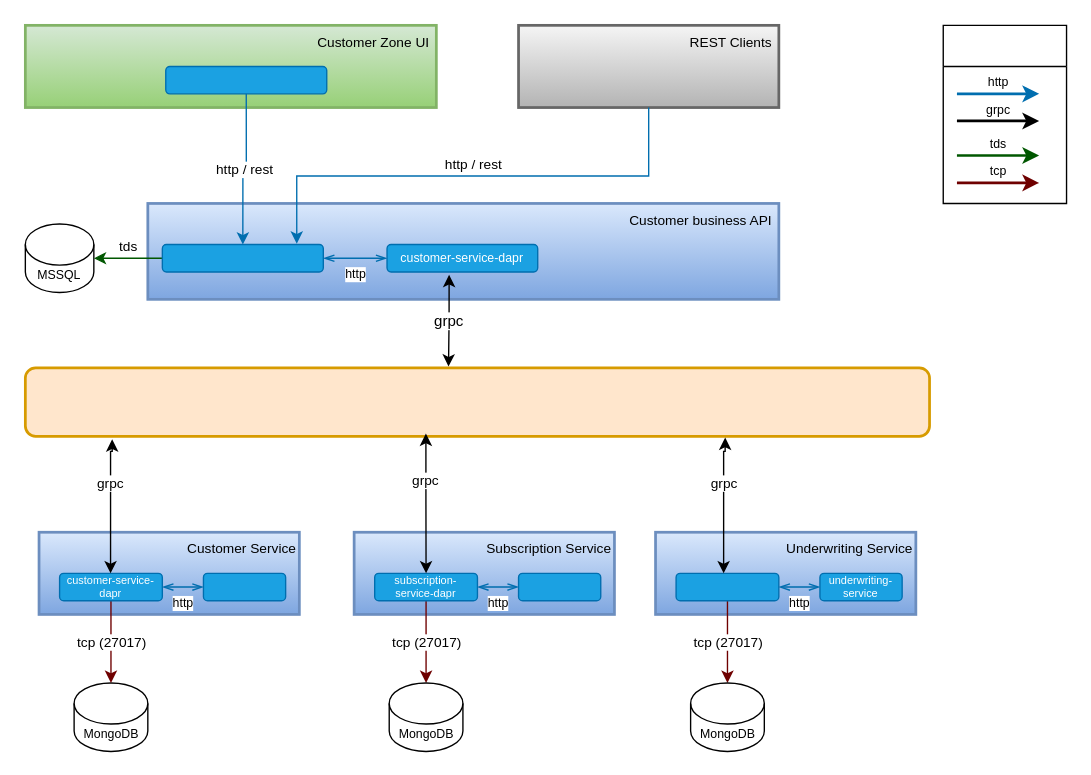
Image size: 1091x775. Some labels were removed from this diagram. Each missing label, with the centre of its shape:
"CAMUNDA" belongs at [476,401].
"customer-experience-api" belongs at [242,257].
"customer-service" belongs at [244,586].
"customer-zone-web" belongs at [245,79].
"Legend" belongs at [1004,113].
"subscription-service" belongs at [559,586].
"underwriting-service-dapr" belongs at [727,586].
